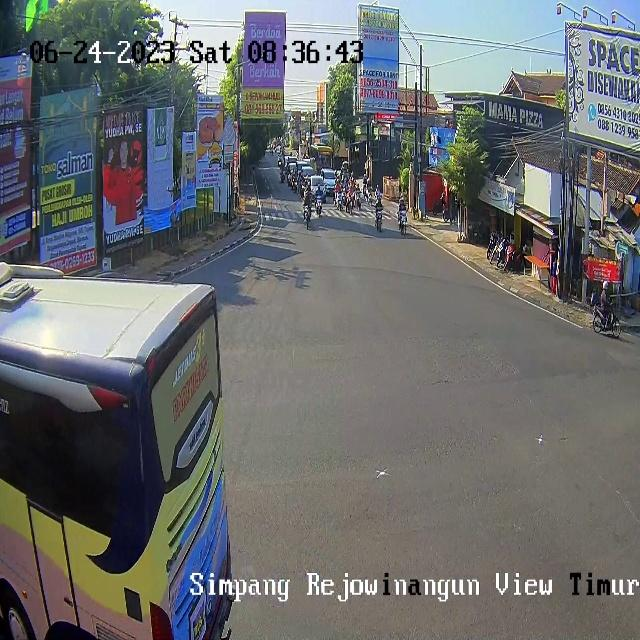bus: (594, 300, 622, 338), (303, 205, 311, 230), (400, 211, 407, 234), (335, 190, 343, 210), (376, 209, 382, 231), (316, 196, 322, 218), (354, 189, 360, 208), (347, 196, 352, 216), (367, 192, 372, 207)
car: (0, 263, 234, 640)
motorcycle: (310, 176, 326, 200), (321, 169, 336, 193), (301, 165, 315, 185), (287, 162, 296, 181)
